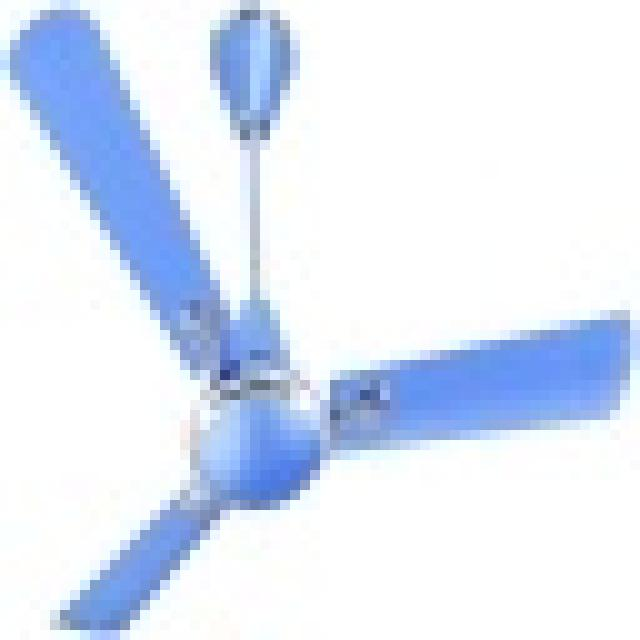Bulb: (5, 30, 635, 591)
